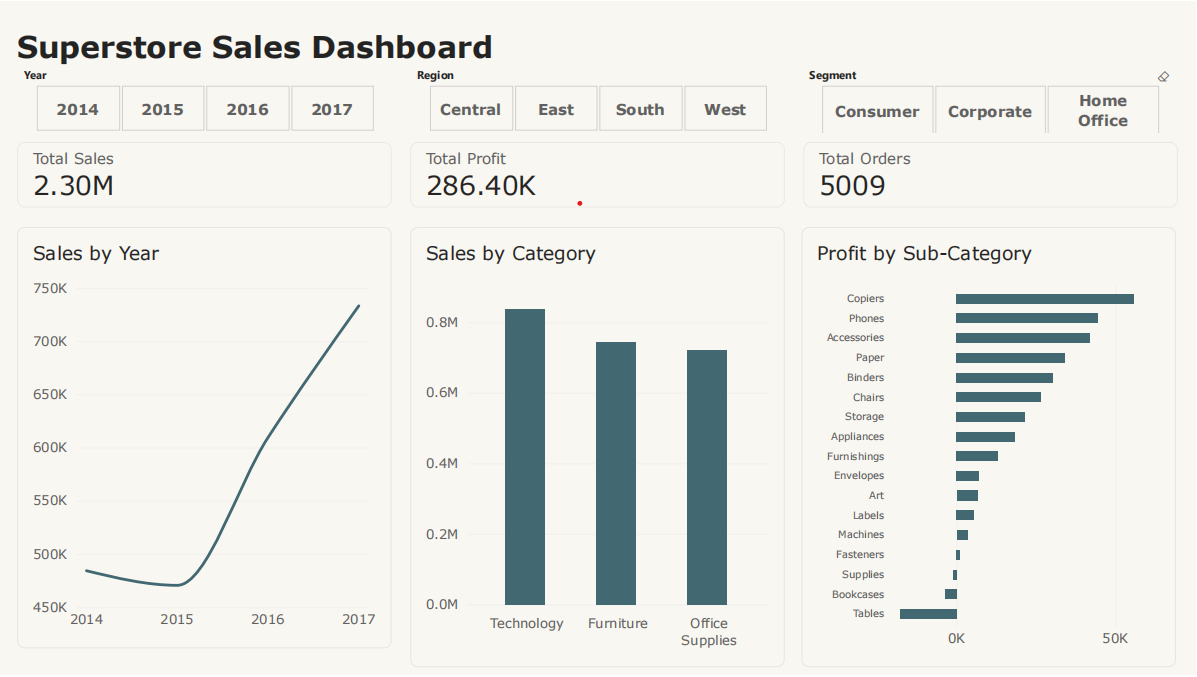

The page's visual inventory and layout, read from the dashboard file:
{"tool":"powerbi","page":{"name":"Overview","canvas":[1280,720],"ordinal":0},"visuals":[{"type":"cardVisual","fields":{"Data":["Sum(Sample - Superstore.Sales)"]},"box":[20.2,149.7,400,70],"z":0},{"type":"cardVisual","fields":{"Data":["Sum(Sample - Superstore.Profit)"]},"box":[440,150,400,70],"z":1000},{"type":"cardVisual","fields":{"Data":["Count(Sample - Superstore.Order ID)"]},"box":[860,150,400,70],"z":2000},{"type":"lineChart","title":"Sales by Year","fields":{"Category":["Sample - Superstore.Order Date.Variation.Date Hierarchy.Year"],"Y":["Sum(Sample - Superstore.Sales)"]},"box":[20.2,241.5,400,450],"z":3000},{"type":"lineClusteredColumnComboChart","title":"Sales by Category","fields":{"Category":["Sample - Superstore.Category"],"Y":["Sum(Sample - Superstore.Sales)"]},"box":[439.8,241.5,400,470],"z":4000},{"type":"clusteredBarChart","title":"Profit by Sub-Category","fields":{"Category":["Sample - Superstore.Sub-Category"],"Y":["Sum(Sample - Superstore.Profit)"]},"box":[858,241.5,400,470],"z":5000},{"type":"slicer","fields":{"Values":["Sample - Superstore.Order Date.Variation.Date Hierarchy.Year"]},"box":[20,70,400,70],"z":6000},{"type":"slicer","fields":{"Values":["Sample - Superstore.Region"]},"box":[440,70,400,70],"z":7000},{"type":"slicer","fields":{"Values":["Sample - Superstore.Segment"]},"box":[859.4,70.2,399.3,70.2],"z":8000},{"type":"textbox","box":[20,10.9,700.3,70],"z":9000}]}

Visuals, with their boxes in screenshot pixels (x1, y1, x2, y2), scaled from the page's 1280x720 canvas onto the 1197x677 screenshot:
cardVisual - Sum(Sample - Superstore.Sales): bbox=[19, 141, 393, 207]
cardVisual - Sum(Sample - Superstore.Profit): bbox=[411, 141, 786, 207]
cardVisual - Count(Sample - Superstore.Order ID): bbox=[804, 141, 1178, 207]
"Sales by Year" lineChart: bbox=[19, 227, 393, 650]
"Sales by Category" lineClusteredColumnComboChart: bbox=[411, 227, 785, 669]
"Profit by Sub-Category" clusteredBarChart: bbox=[802, 227, 1176, 669]
slicer - Sample - Superstore.Order Date.Variation.Date Hierarchy.Year: bbox=[19, 66, 393, 132]
slicer - Sample - Superstore.Region: bbox=[411, 66, 786, 132]
slicer - Sample - Superstore.Segment: bbox=[804, 66, 1177, 132]
textbox: bbox=[19, 10, 674, 76]
